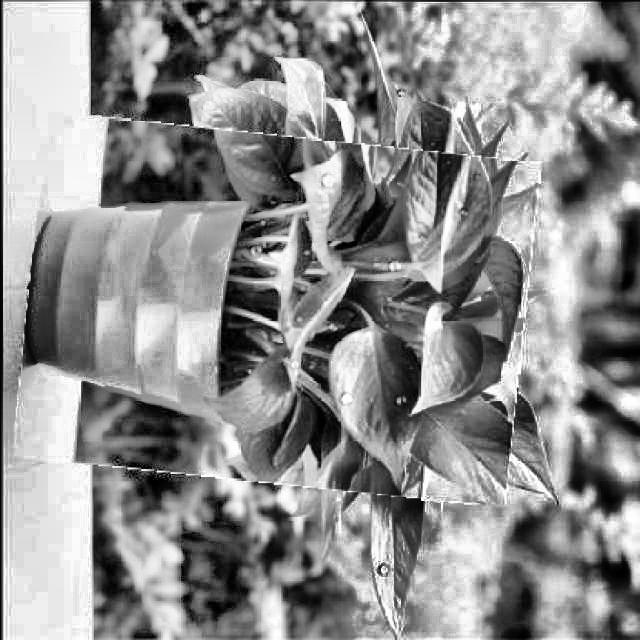plants: (19, 123, 530, 494)
